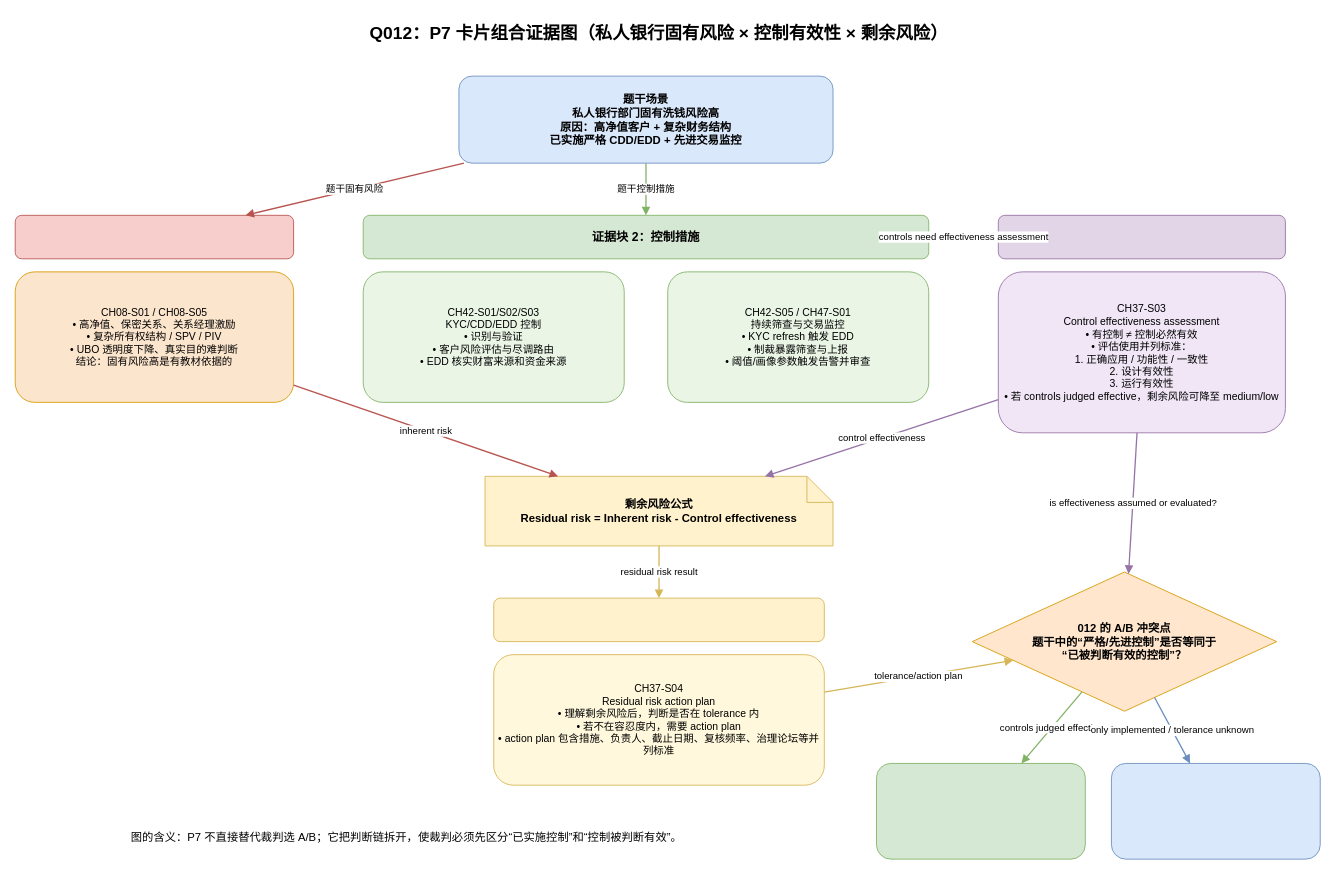
This 1335x874 diagram has some shape labels left out. The shapes that lost their labels are listed below. From the top down, each one's centre as x and y in pixels, then its label:
(x=154, y=236): 证据块 1：私人银行固有风险
(x=1141, y=236): 证据块 3：控制有效性评估（核心）
(x=658, y=619): 证据块 4：容忍度判断与行动计划
(x=980, y=811): 若默认控制已有效 支持 A：剩余风险显著降低 依据：CH37-S03 + PEP 示例 有效控制可降至 medium/low
(x=1215, y=811): 若只说明已实施控制 支持 B：降低但仍需评估/可能补控制 依据：CH37-S03 + CH37-S04 需判断有效性与 tolerance
